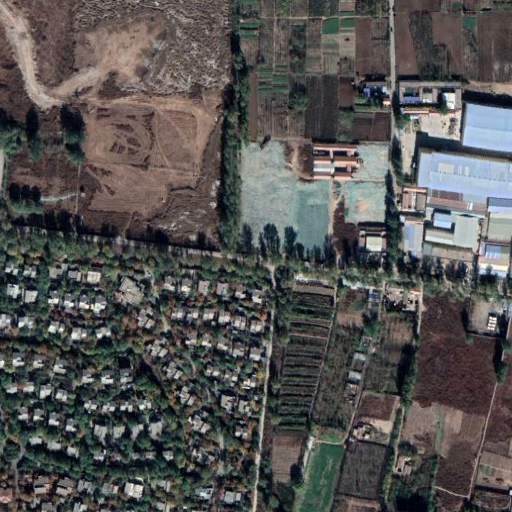cw: (235, 139, 388, 261)
